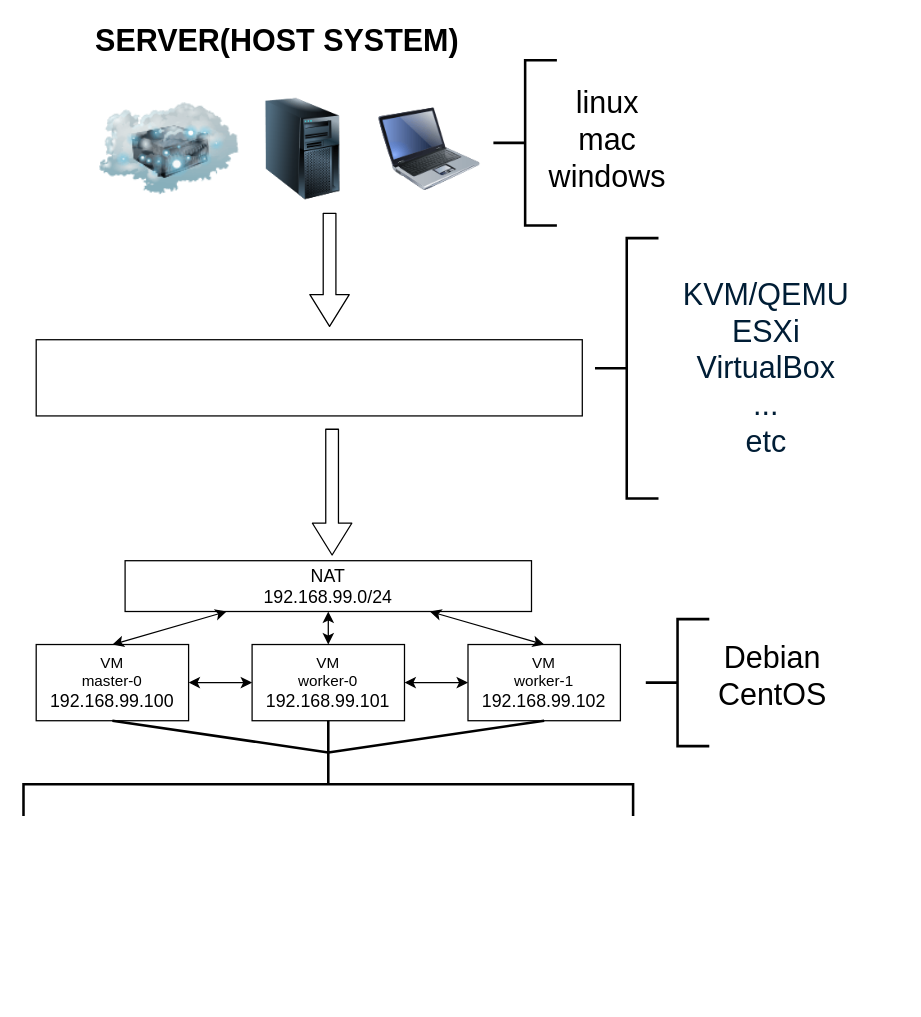
This 921x1017 diagram has some shape labels left out. Here are the shapes that lost their labels. From the top down, the box of each, then its label:
(35, 338, 582, 416): virtualization systems + hypervisor
(22, 751, 634, 817): docker k8s gitlab ... etc
